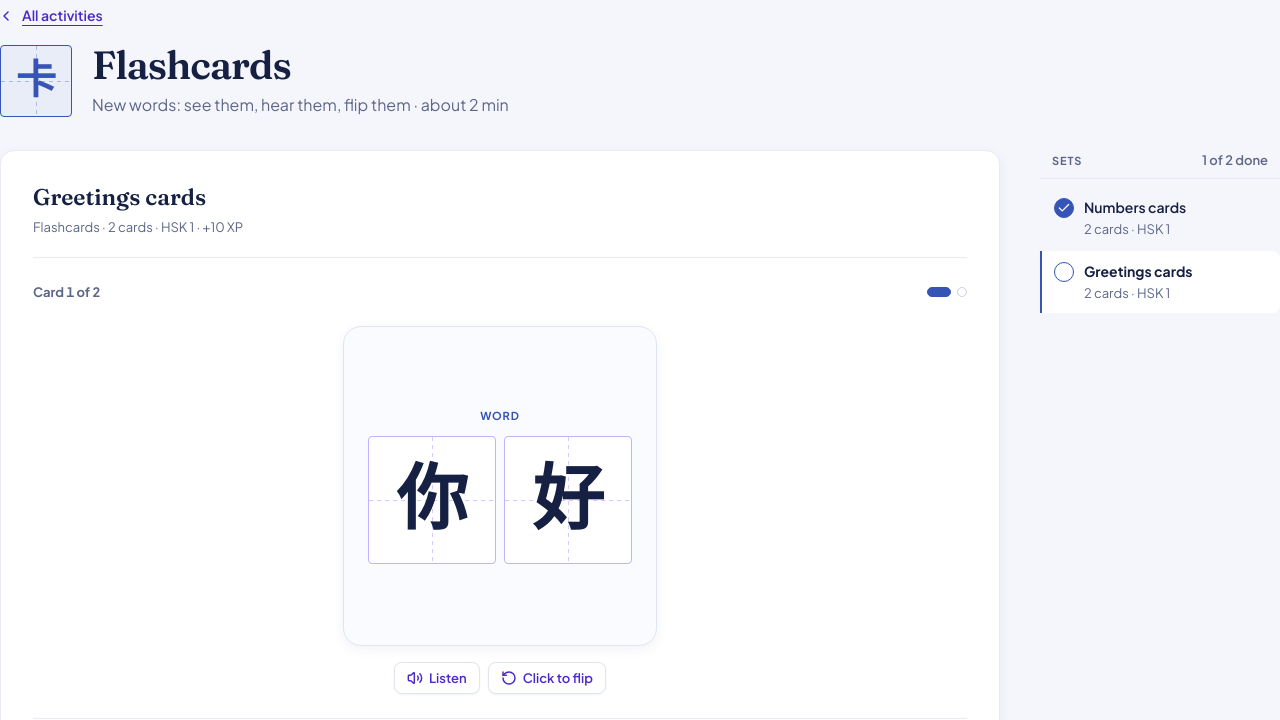
Test: StudentPracticePage › opens the first set not done yet, and Mark as reviewed waits until every card was seen
The width and height of the screenshot is (1280, 720).
Check: the heading "Flashcards" is shown, box [92,41,291,89]
Step 1. Click the button with test id "flip" → (547, 678), box [488,662,606,694]
(page scrolled)
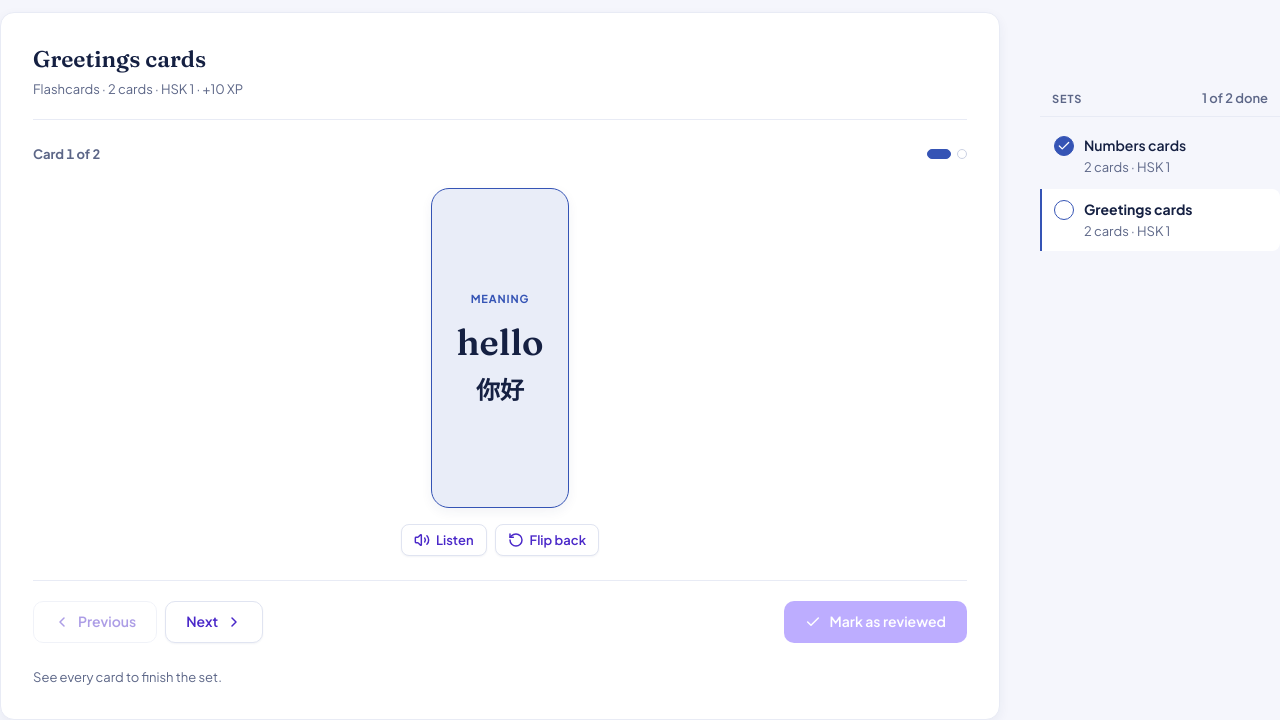
Check: the text "hello" is shown, box [456,319,544,365]
Step 2. Click the button with test id "next-card" → (214, 622), box [165,601,263,643]
(page scrolled)
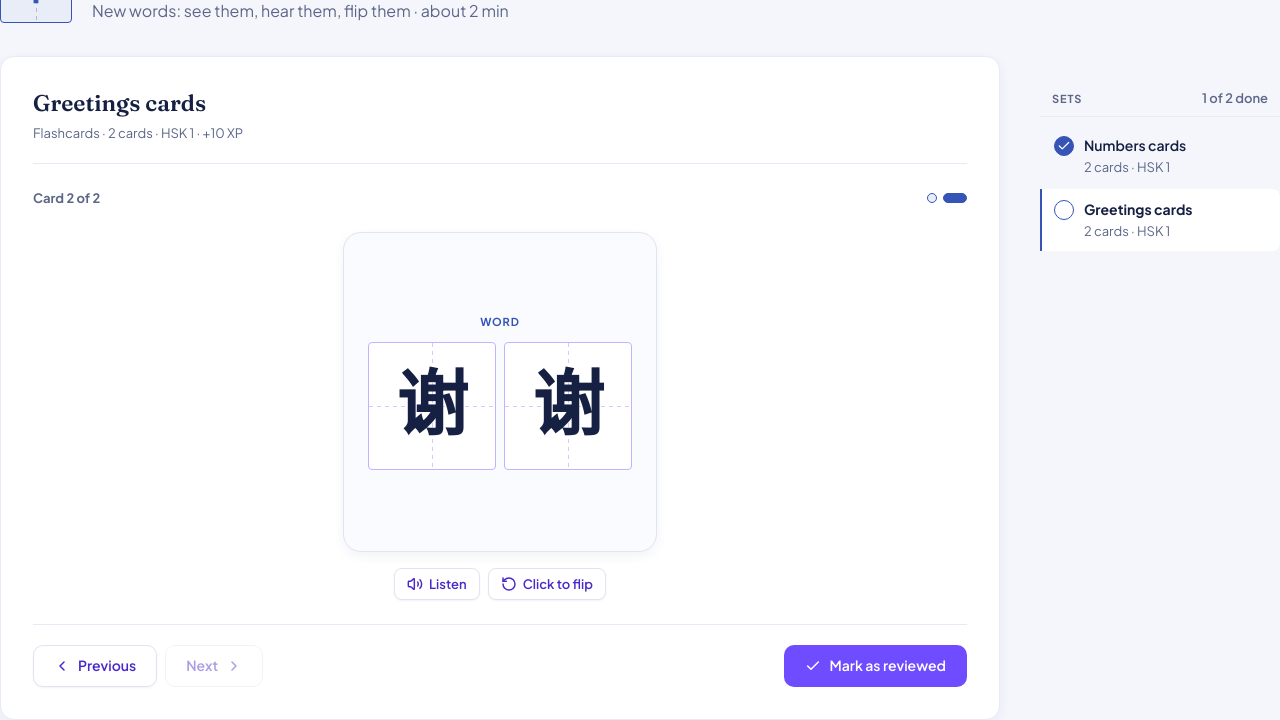
Check: the button with test id "mark-reviewed" is enabled
Step 3. Click the button with test id "mark-reviewed" → (876, 666), box [784,645,967,687]
(page scrolled)
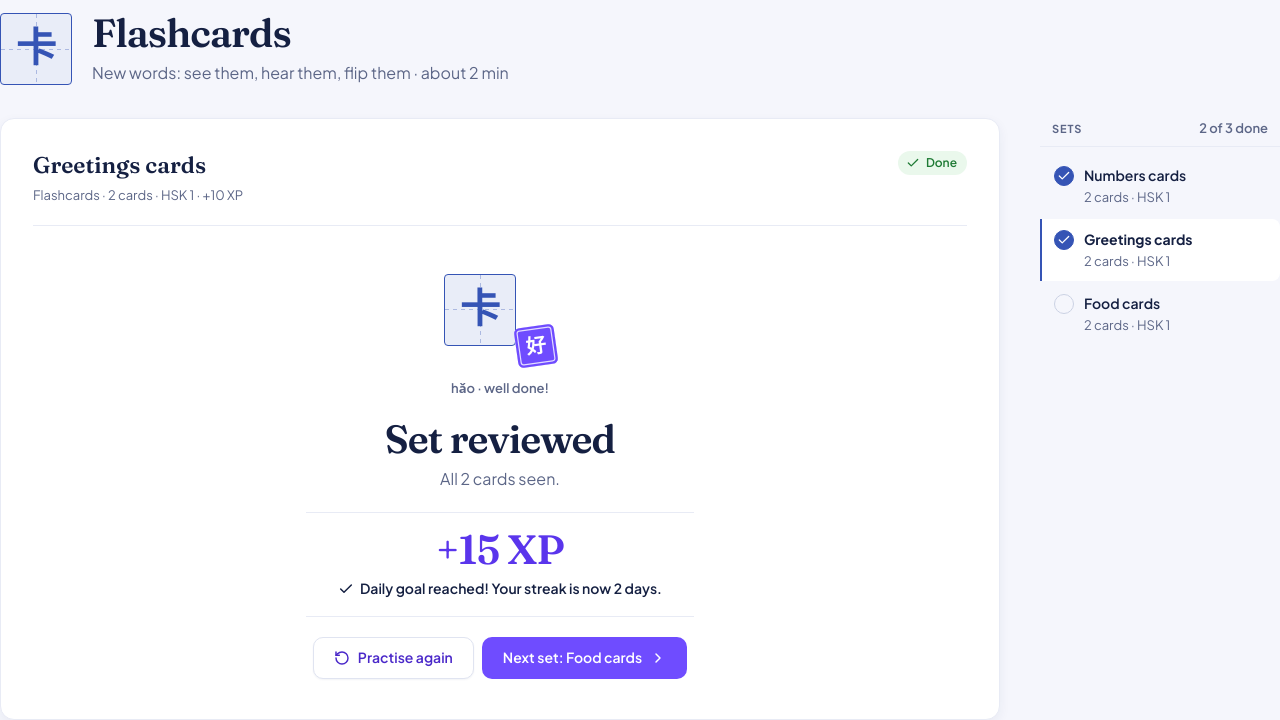
Check: the element with test id "set-done" shows "Set reviewed", box [385,415,615,463]
Check: the element with test id "set-done" shows "+15 XP", box [436,524,564,574]
Check: the element with test id "set-done" shows "Daily goal reached! Your streak is now 2 days.", box [360,579,662,597]
